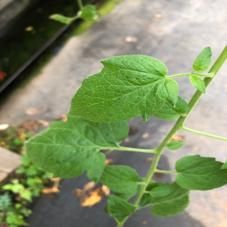Healthy: (65, 51, 179, 126), (18, 121, 119, 185), (175, 152, 227, 192)
